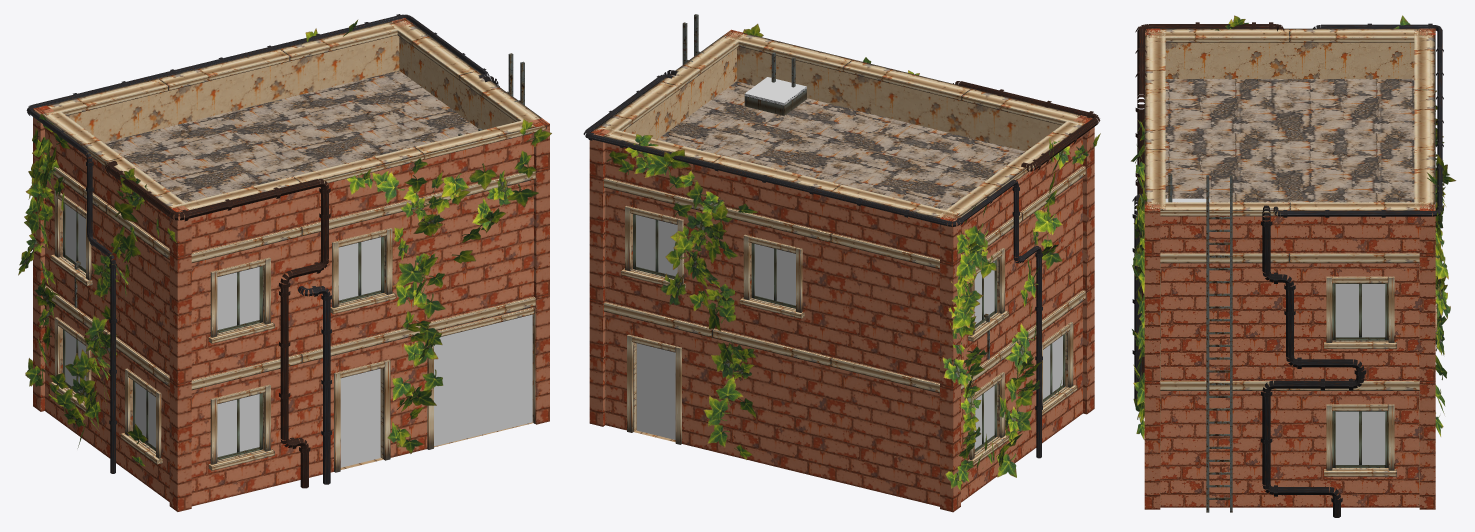
Rendered from building_kit_test_visual.glb.
3 renders of one model, left to right at view 1: azimuth 30°, elevation 25°; view 2: azimuth 150°, elevation 25°; view 3: azimuth 270°, elevation 25°, orthographic. The views are drawn at different scales.
Visible parts, largest first — view 1: BK_TestHouse_ivy, BK_TestHouse_pipes, wallB_window__L1_S0_B0, wallB_solid__L1_S0_B2, wallB_window__L0_S0_B0, wallB_window__L1_S0_B1, col_wallB_wide_shutter__L0_S0_B2, wallB_door_C__L0_S0_B1, roof__L2_F1_1, roof__L2_F2_1, wallB_solid__L1_S3_B1, wall_parapet__L2_S2_B1 (+31 smaller); view 2: BK_TestHouse_ivy, wallB_solid__L0_S2_B2, wallB_solid__L1_S2_B2, wallB_solid__L0_S2_B1, wallB_window__L1_S2_B1, wallB_door_C__L0_S2_B0, wallB_window__L1_S2_B0, roof__L2_F1_0, BK_TestHouse_pipes, roof_hatch__L2_F2_0, wallB_solid__L1_S3_B1, wall_parapet__L2_S0_B1 (+31 smaller); view 3: wallB_solid__L1_S1_B0, wallB_solid__L0_S1_B0, wallB_window__L1_S1_B1, wallB_window__L0_S1_B1, BK_TestHouse_pipes, roof__L2_F1_1, roof__L2_F1_0, roof__L2_F0_0, roof__L2_F0_1, wall_parapet__L2_S3_B0, wall_parapet__L2_S3_B1, wall_parapet__L2_S1_B1 (+19 smaller).
Boxes of the visible parts, x1=… form: BK_TestHouse_ivy: x1=18, y1=19, x2=551, y2=466; BK_TestHouse_pipes: x1=26, y1=14, x2=499, y2=488; wallB_window__L1_S0_B0: x1=191, y1=226, x2=302, y2=379; wallB_solid__L1_S0_B2: x1=422, y1=171, x2=535, y2=321; wallB_window__L0_S0_B0: x1=191, y1=353, x2=302, y2=506; wallB_window__L1_S0_B1: x1=301, y1=196, x2=423, y2=352; col_wallB_wide_shutter__L0_S0_B2: x1=434, y1=314, x2=532, y2=446; wallB_door_C__L0_S0_B1: x1=301, y1=326, x2=422, y2=477; roof__L2_F1_1: x1=167, y1=98, x2=351, y2=174; roof__L2_F2_1: x1=288, y1=70, x2=462, y2=144; wallB_solid__L1_S3_B1: x1=106, y1=204, x2=169, y2=374; wall_parapet__L2_S2_B1: x1=158, y1=49, x2=289, y2=126; BK_TestHouse_ivy: x1=606, y1=23, x2=1100, y2=490; wallB_solid__L0_S2_B2: x1=831, y1=356, x2=939, y2=506; wallB_solid__L1_S2_B2: x1=831, y1=232, x2=939, y2=382; wallB_solid__L0_S2_B1: x1=713, y1=328, x2=832, y2=480; wallB_window__L1_S2_B1: x1=714, y1=206, x2=832, y2=356; wallB_door_C__L0_S2_B0: x1=603, y1=301, x2=714, y2=451; wallB_window__L1_S2_B0: x1=603, y1=177, x2=714, y2=326; roof__L2_F1_0: x1=783, y1=107, x2=963, y2=182; BK_TestHouse_pipes: x1=583, y1=70, x2=1100, y2=458; roof_hatch__L2_F2_0: x1=675, y1=81, x2=844, y2=153; wallB_solid__L1_S3_B1: x1=1020, y1=165, x2=1085, y2=331; wall_parapet__L2_S0_B1: x1=842, y1=59, x2=970, y2=136; wallB_solid__L1_S1_B0: x1=1160, y1=252, x2=1289, y2=379; wallB_solid__L0_S1_B0: x1=1160, y1=380, x2=1289, y2=507; wallB_window__L1_S1_B1: x1=1290, y1=252, x2=1419, y2=379; wallB_window__L0_S1_B1: x1=1290, y1=380, x2=1419, y2=507; BK_TestHouse_pipes: x1=1132, y1=22, x2=1443, y2=517; roof__L2_F1_1: x1=1290, y1=133, x2=1414, y2=192; roof__L2_F1_0: x1=1165, y1=133, x2=1289, y2=192; roof__L2_F0_0: x1=1165, y1=79, x2=1289, y2=133; roof__L2_F0_1: x1=1290, y1=79, x2=1414, y2=133; wall_parapet__L2_S3_B0: x1=1289, y1=28, x2=1431, y2=78; wall_parapet__L2_S3_B1: x1=1148, y1=28, x2=1290, y2=78; wall_parapet__L2_S1_B1: x1=1289, y1=202, x2=1431, y2=252.
Size of the model in its own units: 9.8 by 8.1 by 7.03.
12 materials, 10 textured.
